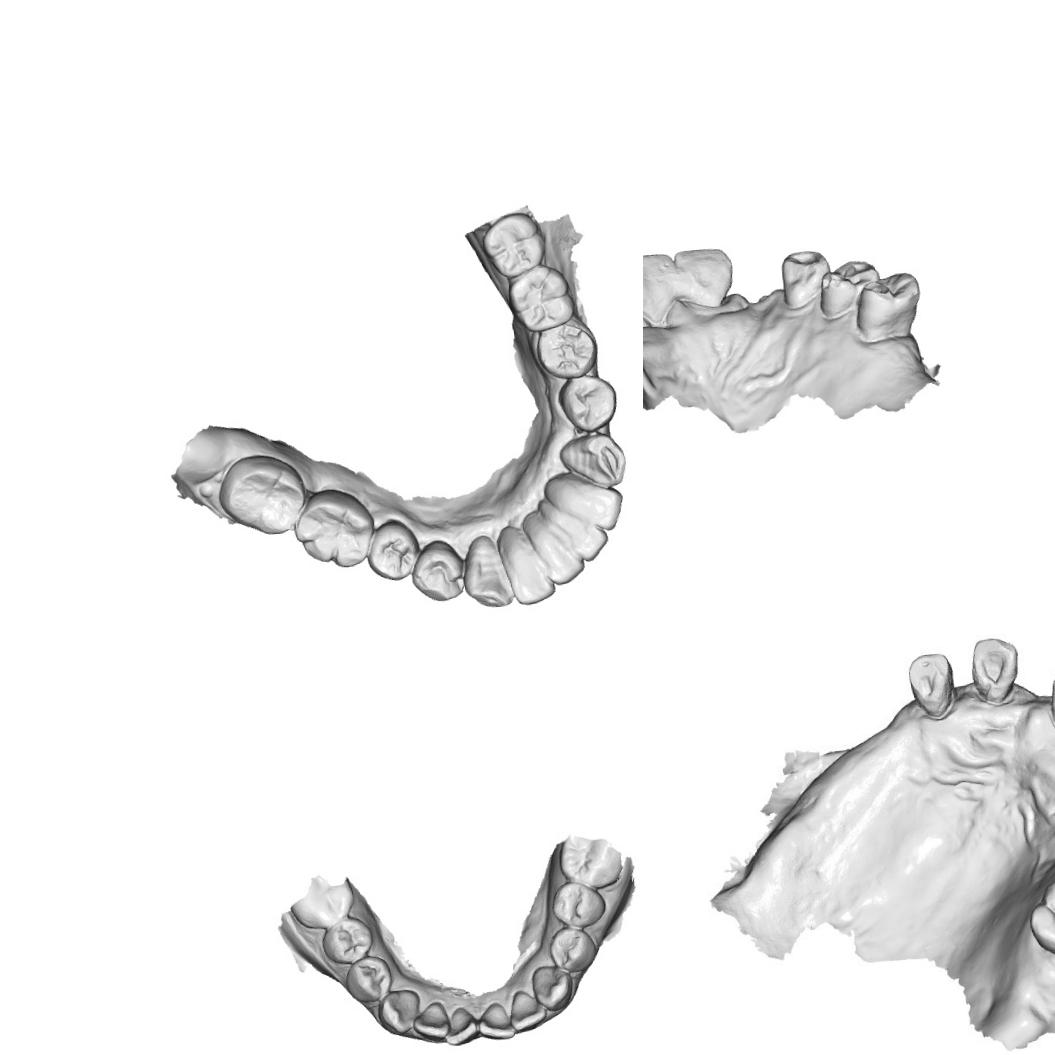canine: (904, 648, 969, 730), (556, 427, 632, 493), (458, 530, 516, 608), (772, 242, 836, 311), (375, 986, 423, 1036), (529, 962, 575, 1012)
incisor: (522, 504, 588, 589), (496, 522, 559, 610), (542, 472, 625, 538), (668, 243, 738, 315), (538, 506, 614, 567), (643, 248, 683, 329), (968, 635, 1019, 698), (506, 987, 548, 1033), (410, 1000, 452, 1044), (442, 1004, 481, 1047), (476, 1000, 515, 1042)
molar: (214, 448, 308, 540), (287, 484, 380, 572), (478, 208, 552, 281), (504, 264, 577, 336), (555, 826, 625, 892), (1027, 868, 1055, 963)
premolar: (812, 246, 888, 328), (855, 263, 931, 341), (548, 365, 627, 436), (358, 514, 420, 590), (530, 318, 602, 383), (408, 534, 466, 609), (318, 913, 376, 966), (548, 878, 607, 930), (546, 924, 599, 976), (342, 952, 394, 1004)
